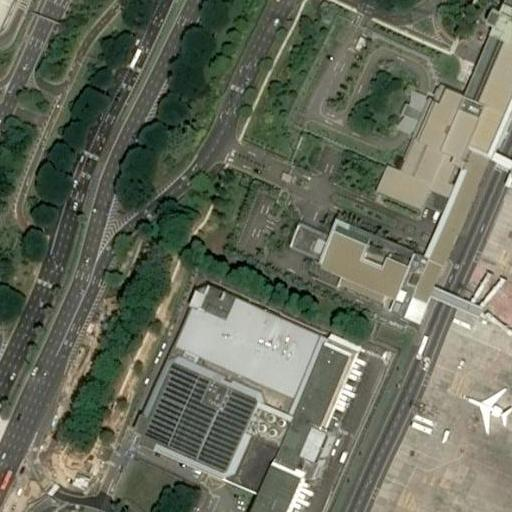Aircraft: (462, 389, 512, 434)
